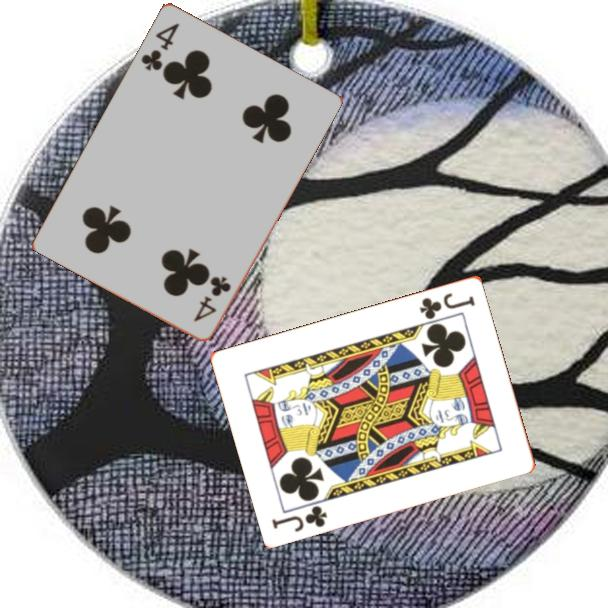c04: (137, 19, 182, 74), (190, 272, 234, 324)
c11: (268, 502, 331, 535), (416, 289, 478, 322)
